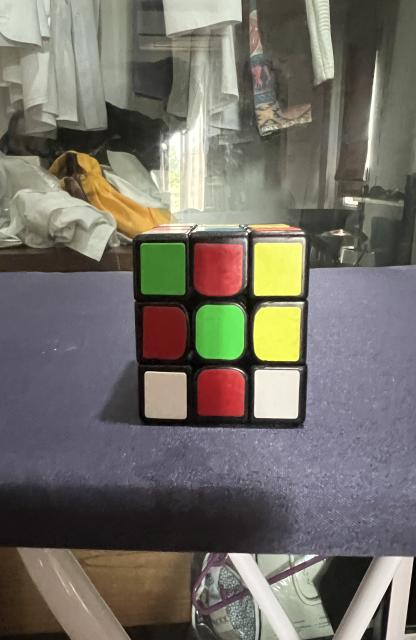Green: (195, 304, 245, 360), (141, 242, 185, 295)
Red: (194, 242, 244, 296), (143, 306, 187, 360), (197, 369, 245, 418)
White: (254, 369, 300, 419), (144, 371, 187, 419)
Yellow: (254, 242, 303, 296), (254, 306, 301, 361)
